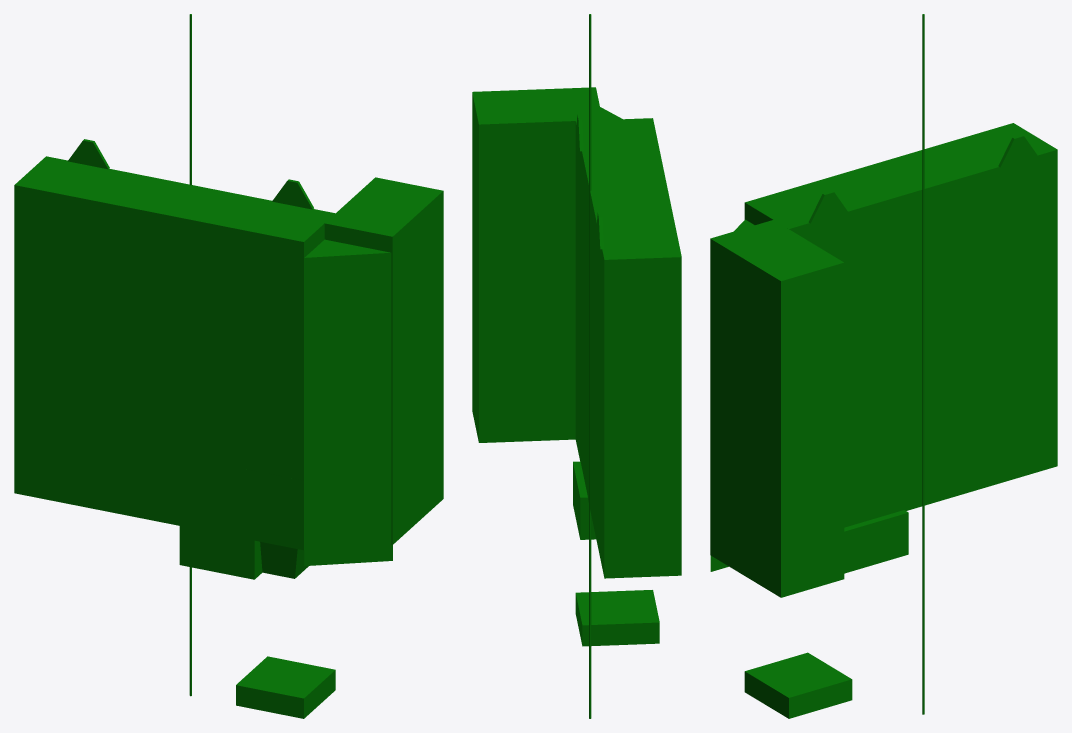
File: Image-1710907574944-2280305713504_INST-PANEL-A4.fbx
3 renders of one model, left to right at view 1: azimuth 30°, elevation 25°; view 2: azimuth 150°, elevation 25°; view 3: azimuth 270°, elevation 25°, orthographic. The views are drawn at different scales.
Parts seen in each view (by area): view 1: BOX 3 of SUBEQUIPMENT 1 of EQUIPMENT /INST-PANEL-A4, PYRAMID 4 of SUBEQUIPMENT 1 of EQUIPMENT /INST-PANEL-A4, BOX 4 of SUBEQUIPMENT 1 of EQUIPMENT /INST-PANEL-A4, BOX 2 of SUBEQUIPMENT 1 of EQUIPMENT /INST-PANEL-A4, BOX 1 of SUBEQUIPMENT 1 of EQUIPMENT /INST-PANEL-A4, PYRAMID 1 of SUBEQUIPMENT 1 of EQUIPMENT /INST-PANEL-A4, CYLINDER 1 of SUBEQUIPMENT 1 of EQUIPMENT /INST-PANEL-A4, PYRAMID 2 of SUBEQUIPMENT 1 of EQUIPMENT /INST-PANEL-A4, PYRAMID 3 of SUBEQUIPMENT 1 of EQUIPMENT /INST-PANEL-A4; view 2: BOX 3 of SUBEQUIPMENT 1 of EQUIPMENT /INST-PANEL-A4, BOX 4 of SUBEQUIPMENT 1 of EQUIPMENT /INST-PANEL-A4, BOX 2 of SUBEQUIPMENT 1 of EQUIPMENT /INST-PANEL-A4, CYLINDER 1 of SUBEQUIPMENT 1 of EQUIPMENT /INST-PANEL-A4, BOX 1 of SUBEQUIPMENT 1 of EQUIPMENT /INST-PANEL-A4; view 3: BOX 3 of SUBEQUIPMENT 1 of EQUIPMENT /INST-PANEL-A4, BOX 4 of SUBEQUIPMENT 1 of EQUIPMENT /INST-PANEL-A4, BOX 2 of SUBEQUIPMENT 1 of EQUIPMENT /INST-PANEL-A4, BOX 1 of SUBEQUIPMENT 1 of EQUIPMENT /INST-PANEL-A4, CYLINDER 1 of SUBEQUIPMENT 1 of EQUIPMENT /INST-PANEL-A4, PYRAMID 3 of SUBEQUIPMENT 1 of EQUIPMENT /INST-PANEL-A4, PYRAMID 2 of SUBEQUIPMENT 1 of EQUIPMENT /INST-PANEL-A4.
Boxes of the visible parts, x1=… form: BOX 3 of SUBEQUIPMENT 1 of EQUIPMENT /INST-PANEL-A4: x1=14, y1=156, x2=335, y2=550; PYRAMID 4 of SUBEQUIPMENT 1 of EQUIPMENT /INST-PANEL-A4: x1=304, y1=239, x2=392, y2=566; BOX 4 of SUBEQUIPMENT 1 of EQUIPMENT /INST-PANEL-A4: x1=324, y1=177, x2=443, y2=544; BOX 2 of SUBEQUIPMENT 1 of EQUIPMENT /INST-PANEL-A4: x1=236, y1=656, x2=335, y2=718; BOX 1 of SUBEQUIPMENT 1 of EQUIPMENT /INST-PANEL-A4: x1=179, y1=526, x2=262, y2=579; PYRAMID 1 of SUBEQUIPMENT 1 of EQUIPMENT /INST-PANEL-A4: x1=260, y1=541, x2=308, y2=578; CYLINDER 1 of SUBEQUIPMENT 1 of EQUIPMENT /INST-PANEL-A4: x1=189, y1=14, x2=191, y2=696; PYRAMID 2 of SUBEQUIPMENT 1 of EQUIPMENT /INST-PANEL-A4: x1=68, y1=139, x2=109, y2=169; PYRAMID 3 of SUBEQUIPMENT 1 of EQUIPMENT /INST-PANEL-A4: x1=272, y1=179, x2=313, y2=209; BOX 3 of SUBEQUIPMENT 1 of EQUIPMENT /INST-PANEL-A4: x1=575, y1=118, x2=681, y2=578; BOX 4 of SUBEQUIPMENT 1 of EQUIPMENT /INST-PANEL-A4: x1=472, y1=87, x2=602, y2=442; BOX 2 of SUBEQUIPMENT 1 of EQUIPMENT /INST-PANEL-A4: x1=575, y1=590, x2=659, y2=646; CYLINDER 1 of SUBEQUIPMENT 1 of EQUIPMENT /INST-PANEL-A4: x1=589, y1=14, x2=591, y2=718; BOX 1 of SUBEQUIPMENT 1 of EQUIPMENT /INST-PANEL-A4: x1=573, y1=461, x2=595, y2=539; BOX 3 of SUBEQUIPMENT 1 of EQUIPMENT /INST-PANEL-A4: x1=744, y1=123, x2=1057, y2=527; BOX 4 of SUBEQUIPMENT 1 of EQUIPMENT /INST-PANEL-A4: x1=710, y1=220, x2=844, y2=597; BOX 2 of SUBEQUIPMENT 1 of EQUIPMENT /INST-PANEL-A4: x1=744, y1=652, x2=852, y2=718; BOX 1 of SUBEQUIPMENT 1 of EQUIPMENT /INST-PANEL-A4: x1=844, y1=510, x2=908, y2=573; CYLINDER 1 of SUBEQUIPMENT 1 of EQUIPMENT /INST-PANEL-A4: x1=922, y1=14, x2=924, y2=714; PYRAMID 3 of SUBEQUIPMENT 1 of EQUIPMENT /INST-PANEL-A4: x1=808, y1=191, x2=848, y2=223; PYRAMID 2 of SUBEQUIPMENT 1 of EQUIPMENT /INST-PANEL-A4: x1=998, y1=135, x2=1037, y2=167.
Size of the model in its own units: 0.9709 by 0.9002 by 2.
